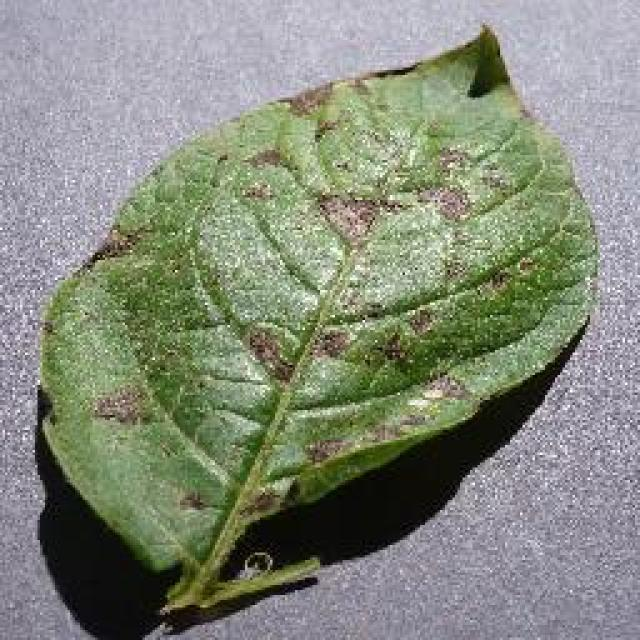early_blight: (32, 20, 602, 622)
